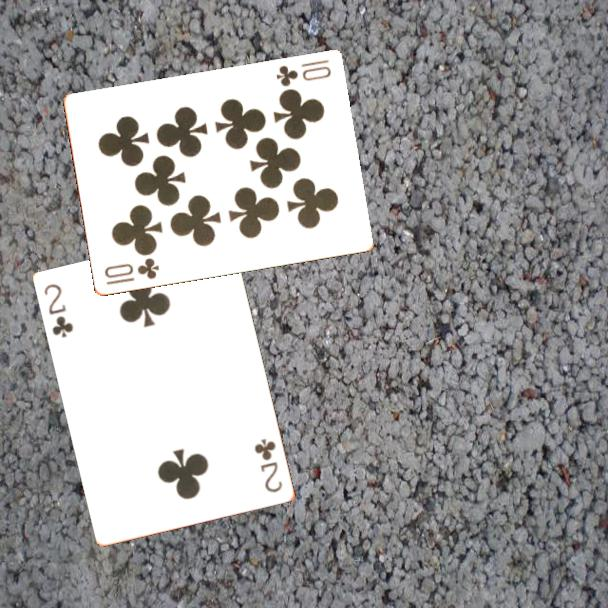c02: (41, 280, 77, 341), (251, 435, 286, 496)
c10: (272, 57, 334, 90), (101, 255, 162, 288)
